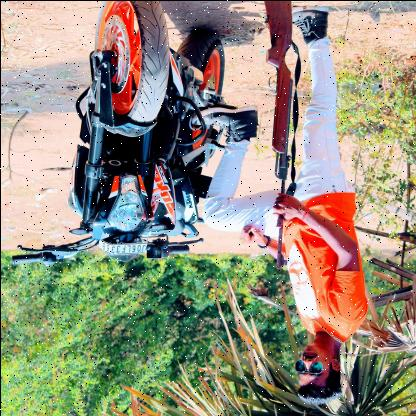rifle: (262, 0, 294, 270)
